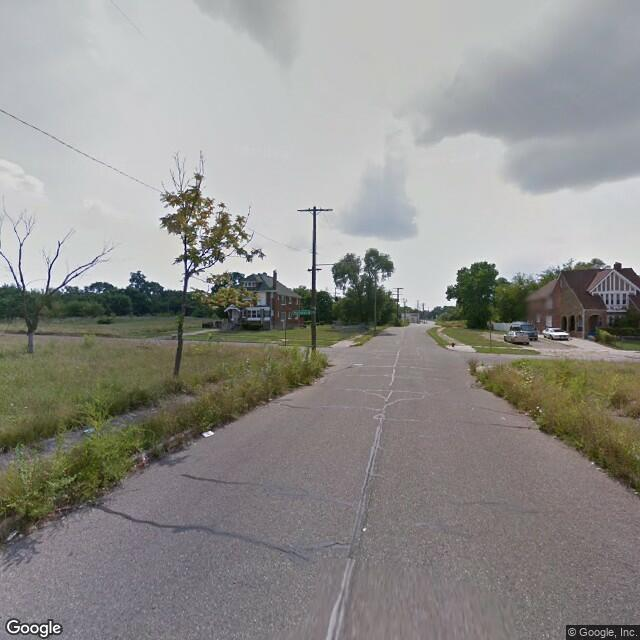litter: (201, 425, 215, 442), (588, 453, 596, 469)
